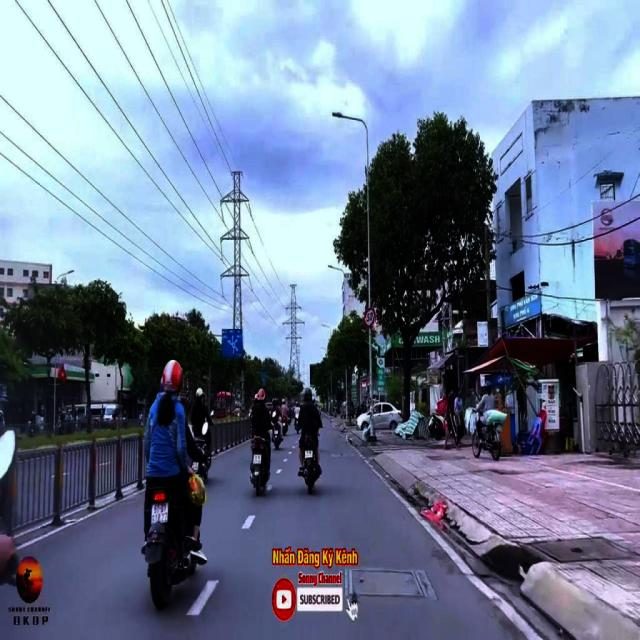khac: (222, 329, 242, 358)
toc_do_toi_da_50: (364, 308, 376, 327)
